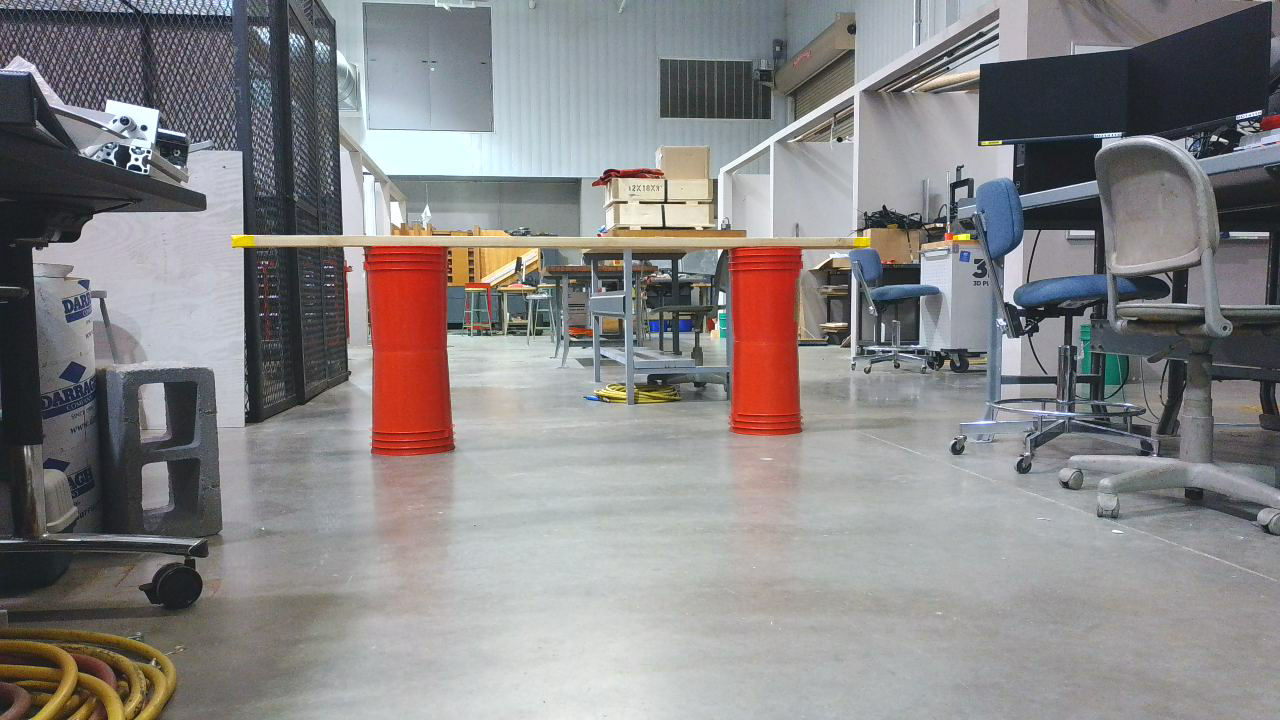red_bucket_arch: (235, 239, 871, 468)
